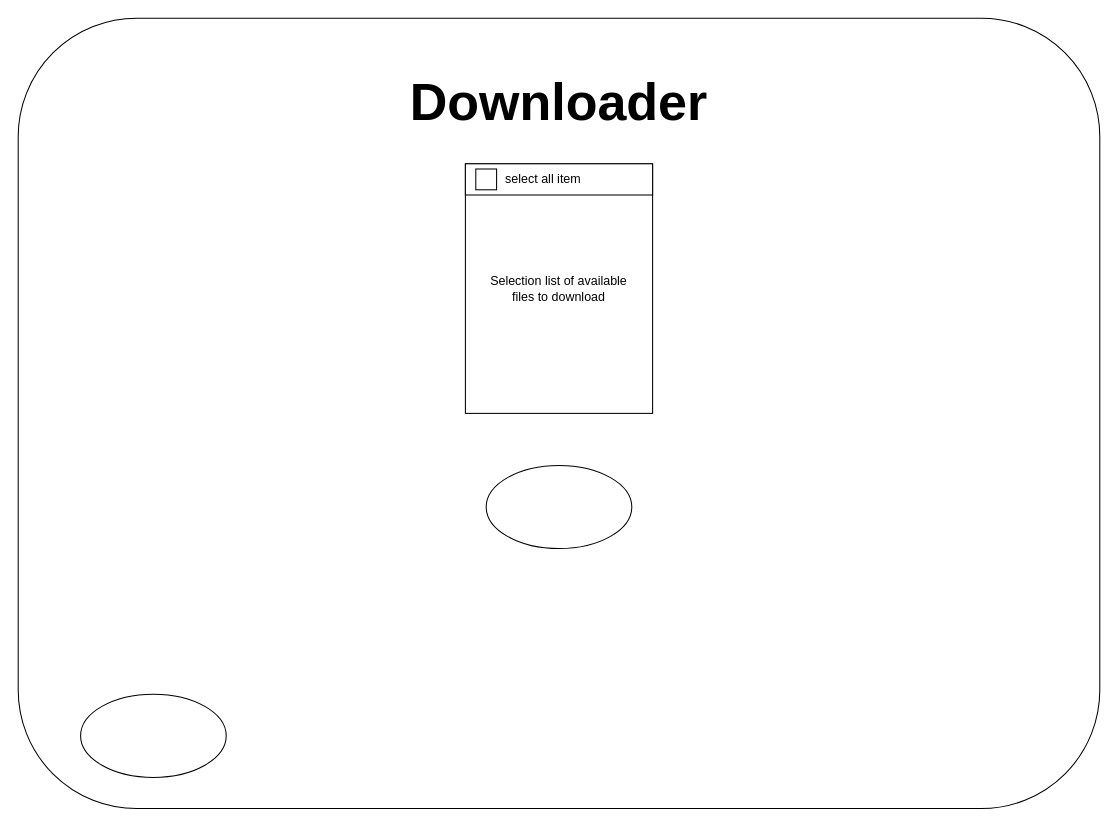
The diagram is 1118 pixels wide and 827 high, and some of its shapes have lost their labels. The shapes that lost their labels are listed below. From the top down, each one's centre as x and y in pixels, then its label:
At (x=558, y=506): "download button".
At (x=153, y=735): "start over button".
